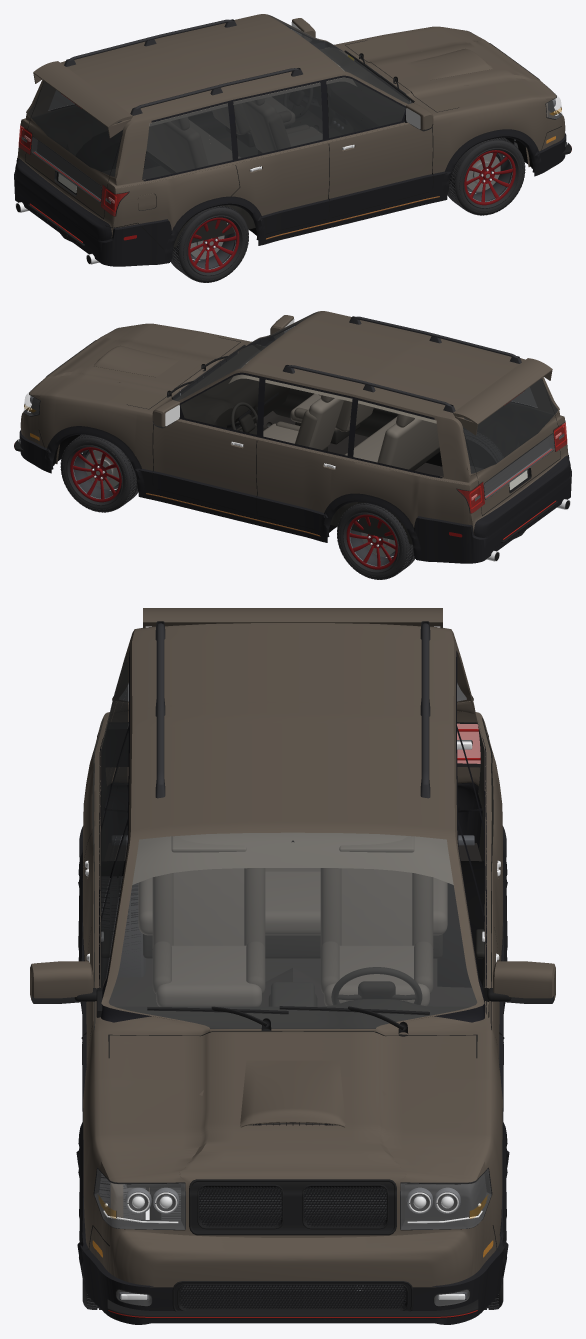
The model's file is suv-sleeper_studio.glb.
3 renders of one model, top to bottom at view 1: azimuth 30°, elevation 25°; view 2: azimuth 150°, elevation 25°; view 3: azimuth 270°, elevation 25°, orthographic. The views are drawn at different scales.
Parts seen in each view (by area): view 1: body, hood, wheel_fr, wheel_rr, lamp_tail, bay; view 2: body, hood, wheel_fl, wheel_rl, lamp_tail, wheel_rr; view 3: body, hood, lamp_head, bay, wheel_rr, wheel_fr.
Boxes of the visible parts, x1,y1,x2,y2 form: body: [14, 14, 571, 266]; hood: [345, 28, 553, 112]; wheel_fr: [447, 137, 525, 215]; wheel_rr: [170, 206, 248, 282]; lamp_tail: [18, 95, 136, 240]; bay: [347, 54, 547, 166]; body: [14, 311, 571, 563]; hood: [32, 325, 240, 409]; wheel_fl: [60, 434, 138, 512]; wheel_rl: [337, 503, 415, 579]; lamp_tail: [449, 392, 567, 537]; wheel_rr: [464, 430, 503, 462]; body: [30, 608, 555, 1324]; hood: [108, 1031, 477, 1182]; lamp_head: [94, 1169, 491, 1305]; bay: [110, 1183, 457, 1294]; wheel_rr: [101, 876, 145, 977]; wheel_fr: [82, 1173, 145, 1309].
Size of the model in its own units: 5.01 by 1.78 by 2.38.
